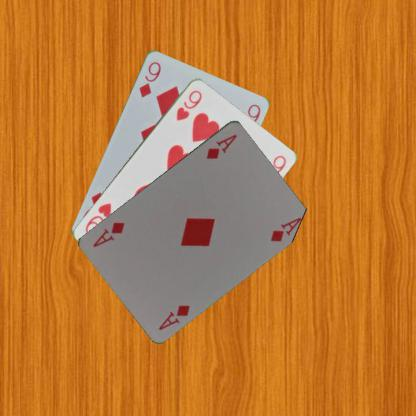9d: (136, 58, 162, 99)
9h: (174, 87, 204, 122)
Ad: (203, 131, 238, 160), (156, 302, 191, 331)
